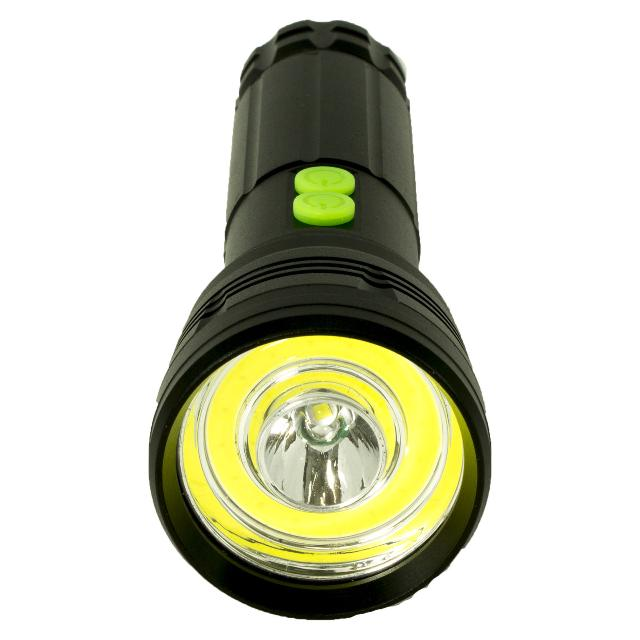Flashlight: (137, 13, 508, 631)
